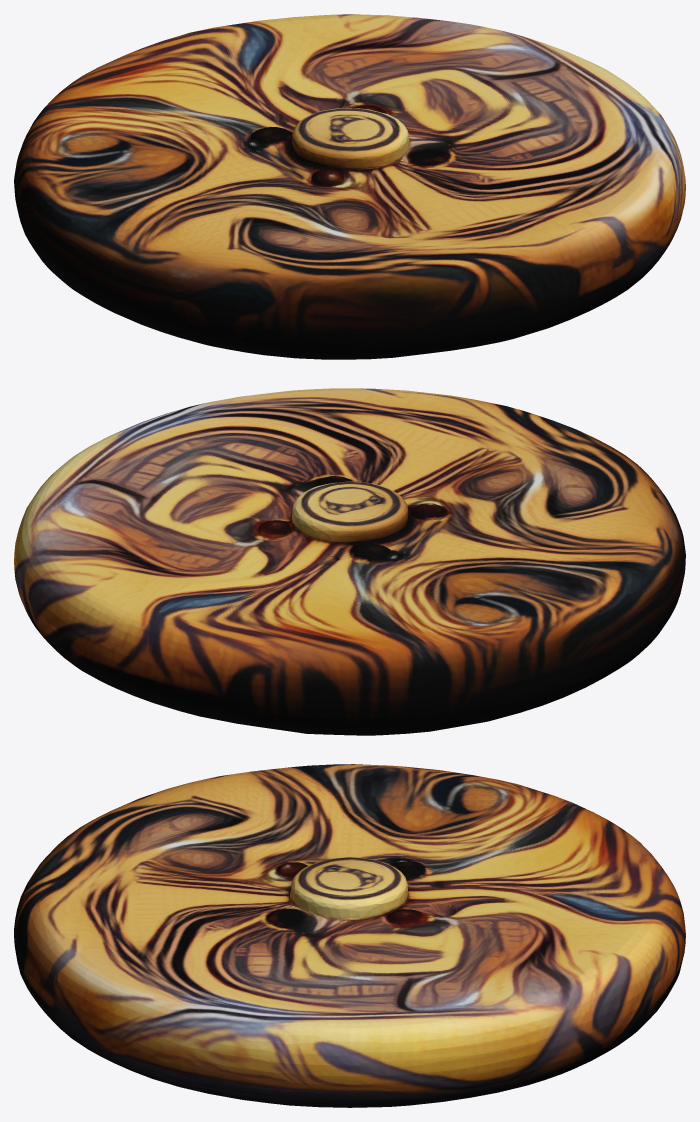
The model's file is wooden-button-futuristic.jpeg.glb.
3 views of the same model, one above another, from view 1: azimuth 30°, elevation 25°; view 2: azimuth 150°, elevation 25°; view 3: azimuth 270°, elevation 25° (orthographic).
Visible parts, largest first — view 1: world; view 2: world; view 3: world.
Boxes of the visible parts, <box> form: world: <box>14,14,685,359</box>; world: <box>14,388,685,735</box>; world: <box>14,764,685,1107</box>.
Bounding box in the file's own units: 0.9999 × 0.2001 × 0.9998.
Materials: 1 (1 with a texture image).
